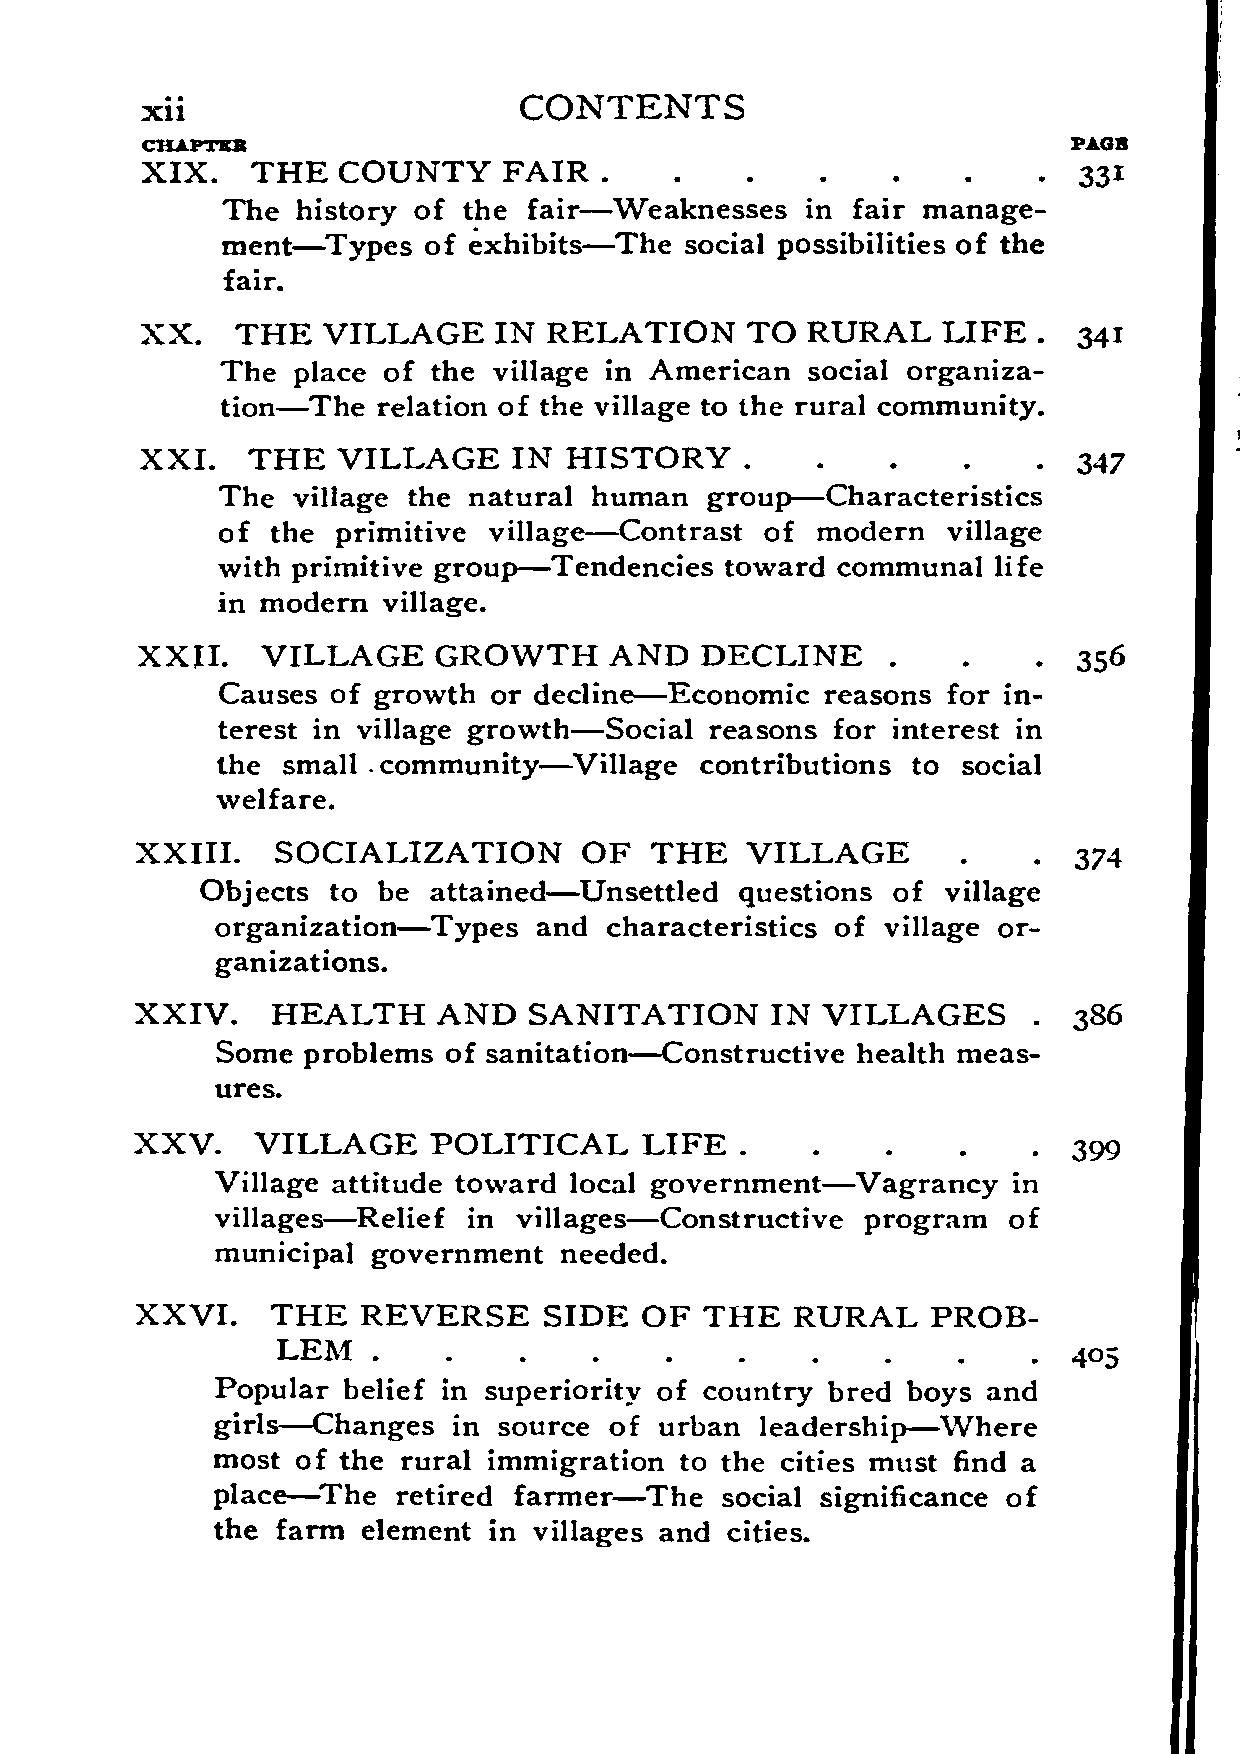TOC_chapter: (132, 1292, 1057, 1577), (125, 432, 1056, 621), (130, 633, 1049, 809), (125, 1118, 1051, 1287), (127, 825, 1053, 972), (140, 150, 1056, 294), (127, 305, 1047, 432), (114, 990, 1045, 1106)
TOC_pagenumber: (1063, 628, 1137, 680), (1062, 1125, 1134, 1170), (1068, 439, 1133, 482), (1070, 986, 1129, 1032), (1072, 827, 1131, 872), (1068, 1337, 1127, 1378), (1075, 157, 1127, 200), (1078, 309, 1125, 356)
chapter: (513, 86, 752, 125)
